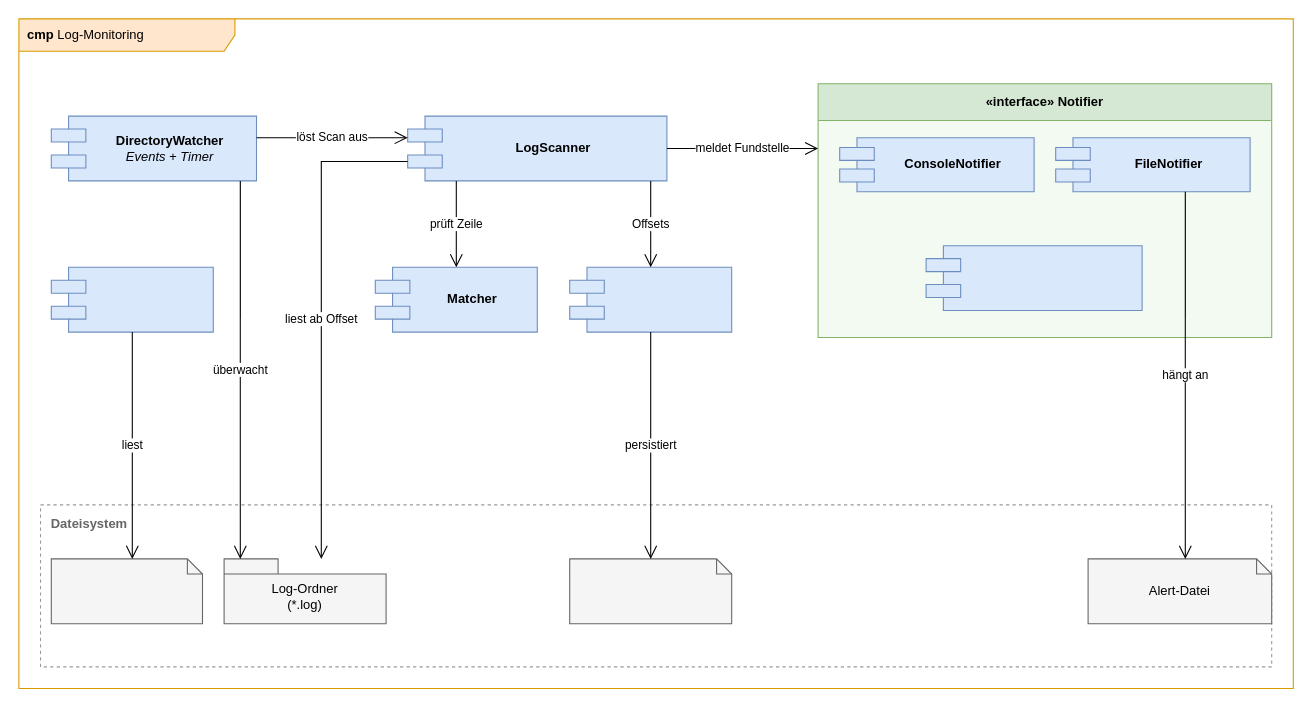
Image size: 1312x707. Some labels were removed from this diagram. Here are the shapes that lost their labels. From the top down, the centre of each, then its label:
(x=1033, y=277): CompositeNotifier leitet an alle weiter
(x=131, y=299): Config Einstellungen für alle
(x=650, y=299): StateStore
(x=126, y=591): Konfigurations- datei
(x=650, y=591): State-Datei
